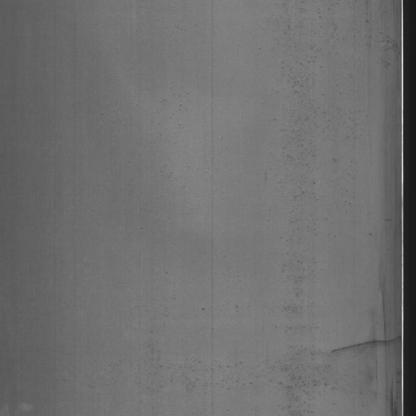crease: (332, 328, 400, 364)
